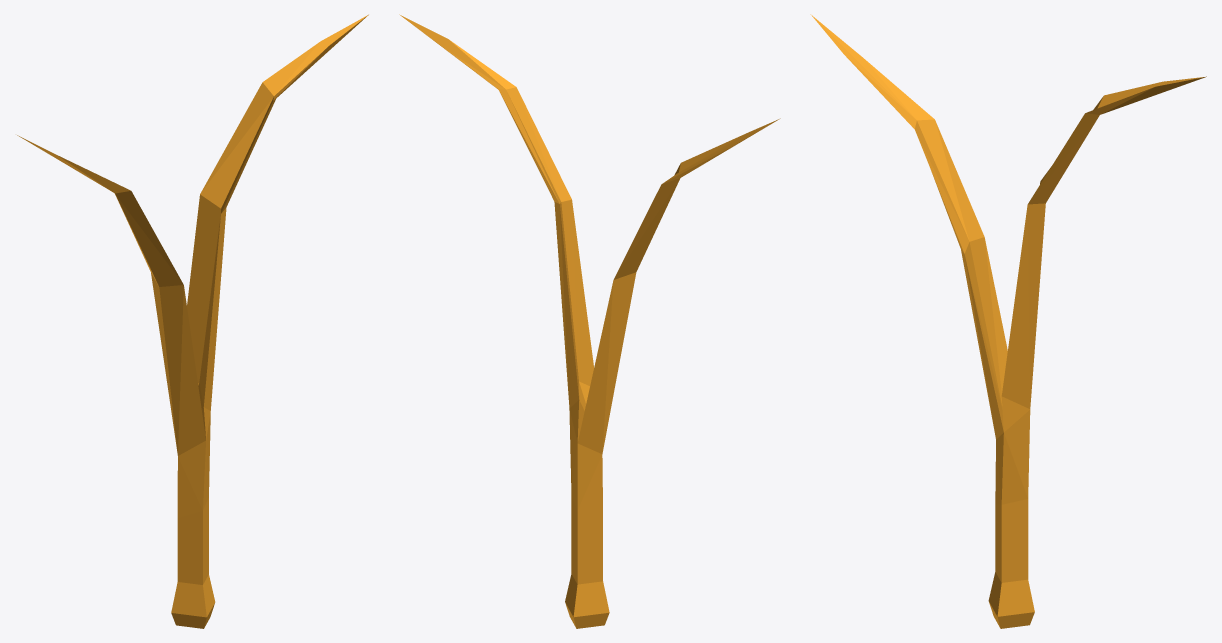
The model's file is SM_Leek_Sprout_A.fbx.
3 renders of one model, left to right at view 1: azimuth 30°, elevation 25°; view 2: azimuth 150°, elevation 25°; view 3: azimuth 330°, elevation 25°, orthographic. The views are drawn at different scales.
Visible parts, largest first — view 1: leek-sprout-a; view 2: leek-sprout-a; view 3: leek-sprout-a.
Part boxes in pixels (bbox=[...]): leek-sprout-a: bbox=[17, 14, 368, 628]; leek-sprout-a: bbox=[399, 14, 780, 628]; leek-sprout-a: bbox=[810, 14, 1206, 628].
Size of the model in its own units: 0.2199 by 0.3234 by 0.0326.
